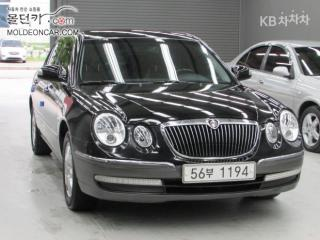1: (226, 166, 235, 179), (219, 166, 227, 179)
4: (241, 165, 250, 177)
5: (190, 167, 199, 180)
6: (198, 167, 206, 180)
9: (233, 165, 241, 177)
plate: (177, 159, 260, 184)
부: (205, 167, 214, 179)
